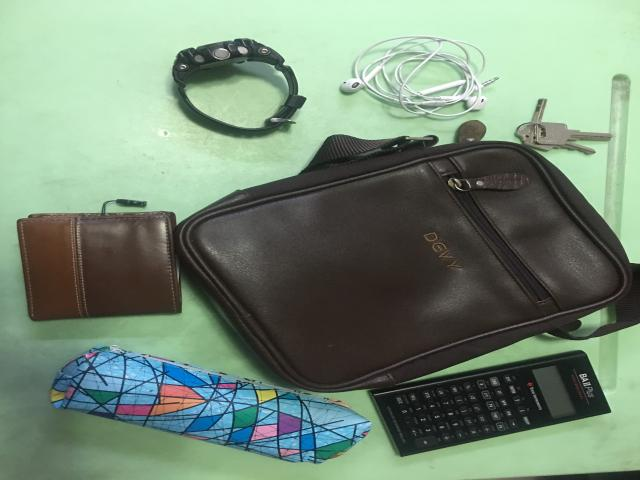Keys: (517, 98, 612, 154)
Wallet: (17, 211, 182, 321)
Watch: (173, 38, 305, 131)
wire: (340, 36, 497, 116)
